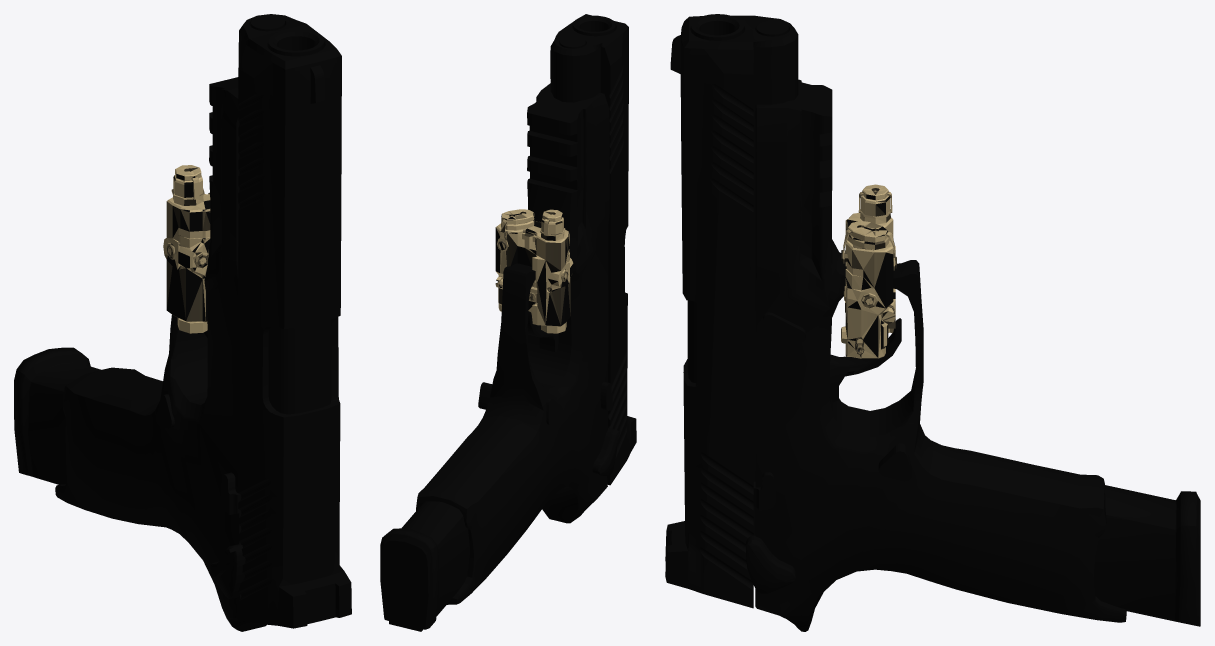
Rendered from SIG_M17__Laser_Pistol.fbx.
3 renders of one model, left to right at view 1: azimuth 30°, elevation 25°; view 2: azimuth 150°, elevation 25°; view 3: azimuth 270°, elevation 25°, orthographic. The views are drawn at different scales.
Parts seen in each view (by area): view 1: asset_SIG_M17.001; view 2: asset_SIG_M17.001; view 3: asset_SIG_M17.001.
Boxes of the visible parts, x1,y1,x2,y2 form: asset_SIG_M17.001: (14, 14, 351, 631); asset_SIG_M17.001: (380, 14, 636, 631); asset_SIG_M17.001: (665, 14, 1200, 631).
Bounding box in the file's own units: 0.0217 × 0.1254 × 0.1014.
